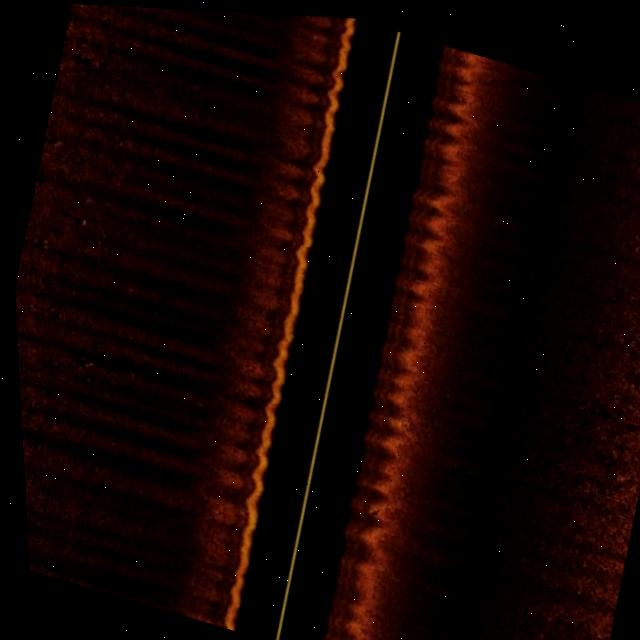mine: (67, 353, 91, 371)
